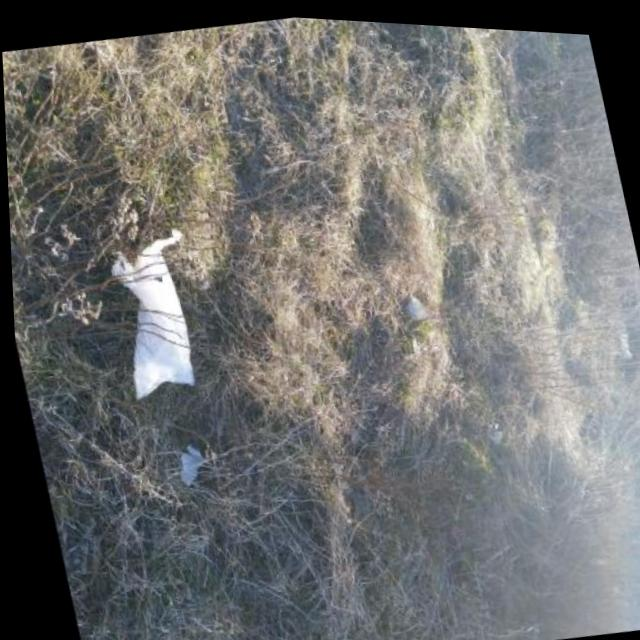plastic: (99, 224, 216, 405)
